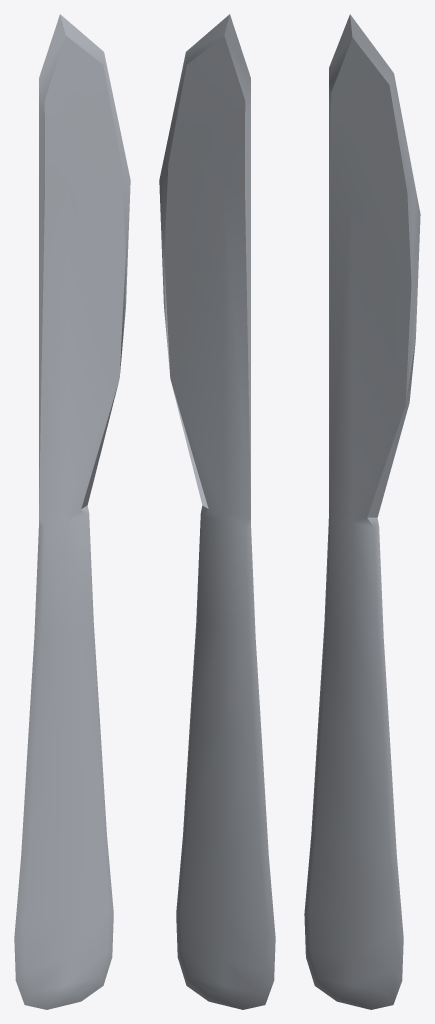
Rendered from utensil_butter_knife_002.glb.
The picture shows the model from 3 angles, left to right: view 1: azimuth 30°, elevation 25°; view 2: azimuth 150°, elevation 25°; view 3: azimuth 330°, elevation 25°; orthographic projection.
Visible parts, largest first — view 1: utensil butter knife.002; view 2: utensil butter knife.002; view 3: utensil butter knife.002.
Part boxes in pixels (x1,y1,x2,y2): utensil butter knife.002: (14,14,130,1009); utensil butter knife.002: (159,14,275,1009); utensil butter knife.002: (304,14,420,1009).
Size of the model in its own units: 0.5663 by 4.62 by 0.0347.
1 material, 1 textured.
